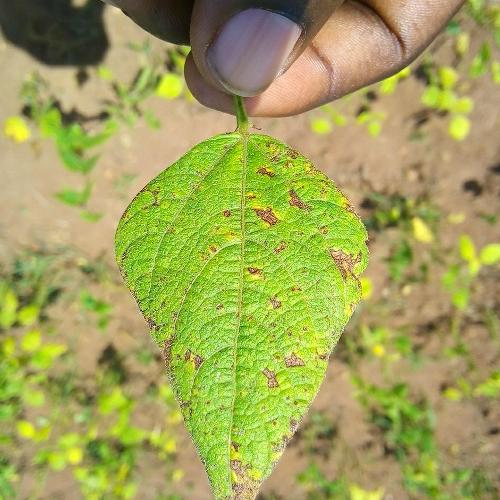hawar: (245, 132, 358, 236), (130, 288, 212, 401), (254, 333, 325, 458), (220, 443, 276, 500), (327, 244, 367, 290), (127, 188, 179, 218), (189, 234, 222, 262), (266, 294, 294, 316), (244, 258, 264, 282), (214, 199, 234, 220)
